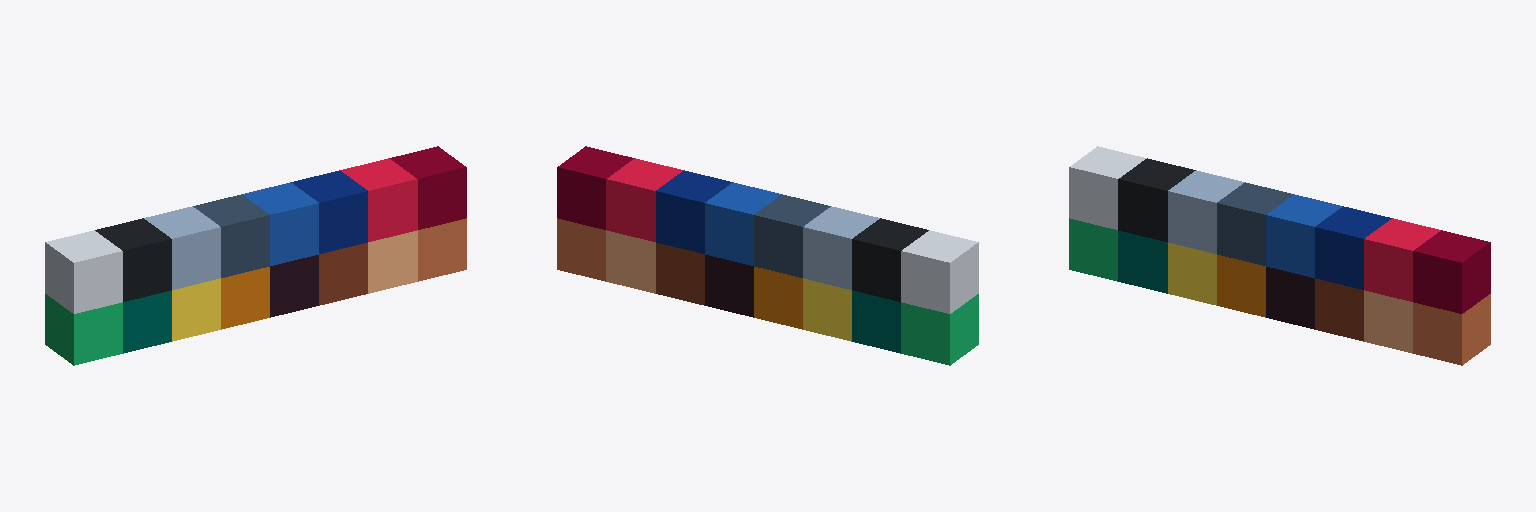
Rendered from baseColor.obj.
The picture shows the model from 3 angles: view 1: azimuth 30°, elevation 25°; view 2: azimuth 150°, elevation 25°; view 3: azimuth 330°, elevation 25°; orthographic projection.
Bounding box in the file's own units: 8 × 2 × 1.